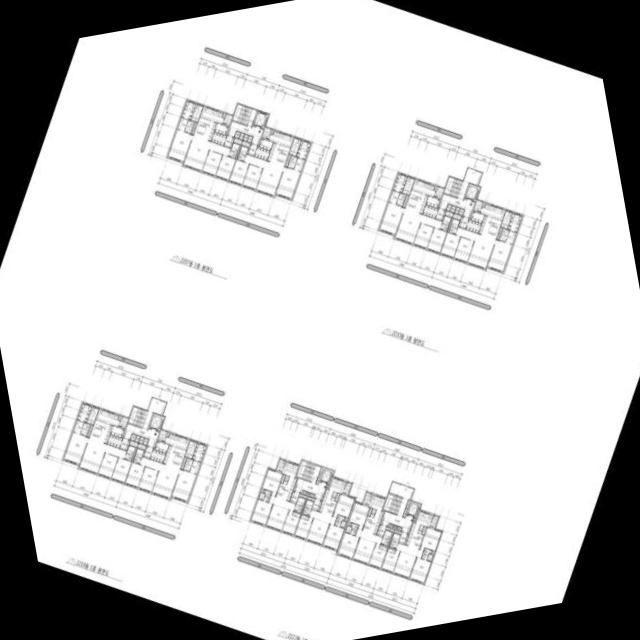background: (0, 0, 640, 640)
space_bedroom: (275, 166, 301, 199), (378, 202, 404, 234), (487, 239, 512, 272), (171, 469, 196, 502), (167, 129, 192, 162), (63, 432, 88, 464), (261, 468, 282, 496), (250, 499, 272, 525), (337, 532, 359, 558), (322, 524, 344, 550), (409, 557, 431, 583), (348, 502, 369, 529), (419, 527, 442, 551), (332, 494, 355, 517), (201, 150, 222, 175), (440, 232, 460, 258), (111, 457, 131, 483), (413, 223, 433, 248), (426, 228, 446, 253), (138, 467, 158, 492), (97, 453, 117, 478), (454, 237, 474, 262), (229, 160, 249, 185), (242, 164, 262, 189), (215, 155, 235, 180), (368, 543, 387, 568), (294, 514, 313, 539), (125, 462, 144, 487), (281, 510, 300, 535), (381, 548, 399, 572)
space_dressroom: (507, 212, 522, 232), (392, 173, 407, 192), (296, 140, 311, 159), (76, 403, 91, 422), (192, 442, 206, 462), (181, 100, 195, 120)
space_elevator: (149, 413, 164, 431), (464, 184, 479, 201), (253, 111, 268, 128), (406, 501, 420, 517), (319, 468, 333, 484)
space_elevator_hall: (123, 398, 166, 447), (438, 168, 481, 217), (381, 482, 414, 532), (294, 465, 326, 499), (227, 121, 263, 144)
space_front: (465, 219, 481, 233), (106, 434, 122, 448), (150, 449, 165, 463), (254, 146, 269, 160), (422, 205, 438, 218), (211, 132, 226, 145), (458, 216, 468, 228), (289, 491, 299, 503), (398, 532, 408, 544), (376, 524, 386, 536), (119, 438, 129, 450), (435, 208, 445, 220), (224, 136, 234, 148), (142, 446, 152, 458), (247, 144, 257, 155), (312, 499, 321, 511)
space_kitchen: (405, 510, 433, 550), (193, 106, 224, 141), (319, 477, 346, 516), (89, 408, 119, 443), (405, 179, 435, 213), (478, 203, 505, 240), (267, 130, 294, 167), (275, 461, 299, 501), (163, 433, 189, 469), (362, 494, 385, 534), (470, 211, 484, 223), (214, 123, 228, 135), (155, 441, 168, 453), (426, 196, 439, 208), (110, 426, 124, 437), (259, 139, 272, 150)
space_living_room: (394, 209, 442, 244), (78, 438, 126, 473), (455, 227, 495, 269), (182, 136, 230, 171), (139, 457, 179, 499), (244, 154, 283, 196), (306, 509, 336, 545), (352, 529, 382, 564), (266, 495, 295, 531), (393, 543, 422, 578)
space_other: (190, 103, 203, 122), (184, 440, 197, 458), (402, 176, 414, 195), (500, 210, 512, 229), (289, 137, 301, 156), (86, 406, 98, 425), (316, 467, 323, 483), (403, 501, 409, 516), (496, 227, 502, 239), (403, 195, 408, 207), (191, 122, 196, 134), (181, 457, 186, 469), (87, 425, 92, 436), (285, 155, 290, 166), (453, 214, 461, 220), (445, 211, 453, 217), (241, 141, 249, 147), (233, 138, 241, 144), (137, 443, 145, 449), (458, 208, 464, 215), (234, 131, 240, 138), (134, 435, 140, 442), (367, 508, 372, 516), (393, 529, 401, 534), (129, 441, 137, 446), (280, 474, 285, 482), (421, 526, 426, 534), (454, 207, 460, 213), (138, 437, 144, 443), (238, 133, 244, 139), (299, 493, 306, 498), (307, 496, 314, 501), (143, 438, 148, 445), (243, 134, 248, 141), (385, 527, 393, 531), (335, 493, 339, 501), (130, 434, 135, 440), (450, 206, 455, 212), (247, 136, 252, 142), (446, 204, 451, 210), (270, 129, 274, 134), (397, 526, 401, 530), (482, 202, 485, 207), (166, 432, 169, 437), (301, 490, 306, 493), (388, 524, 393, 527), (260, 488, 263, 492), (431, 551, 435, 554), (306, 492, 310, 495), (310, 493, 314, 496), (345, 517, 348, 521), (393, 525, 397, 528), (347, 522, 350, 525), (326, 485, 328, 487), (413, 518, 415, 520)
space_outdoor_room: (118, 416, 128, 428), (473, 200, 483, 212), (434, 186, 444, 198), (222, 114, 232, 125), (157, 430, 167, 441), (262, 127, 271, 139), (343, 482, 351, 495), (363, 492, 371, 505), (276, 459, 284, 472), (430, 515, 438, 528)
space_staircase: (232, 104, 256, 126), (296, 460, 316, 481), (443, 177, 463, 197), (383, 494, 402, 514), (128, 407, 147, 427)
space_toilet: (448, 218, 459, 234), (124, 445, 135, 461), (440, 215, 451, 231), (237, 145, 248, 161), (132, 448, 143, 464), (293, 157, 305, 171), (302, 500, 313, 515), (228, 143, 239, 158), (294, 497, 305, 512), (389, 533, 400, 548), (381, 530, 392, 545), (505, 230, 516, 244), (189, 460, 200, 474), (73, 420, 84, 434), (177, 117, 188, 131), (389, 190, 399, 204), (334, 515, 345, 526), (421, 548, 432, 559), (263, 489, 271, 502), (350, 523, 358, 535), (80, 428, 88, 436), (396, 198, 404, 206), (289, 155, 297, 163), (500, 228, 508, 236), (498, 234, 507, 241), (183, 464, 191, 471), (185, 458, 193, 465), (398, 193, 406, 200), (186, 120, 194, 127), (287, 161, 295, 168), (184, 126, 192, 133), (82, 423, 90, 430), (259, 492, 265, 500), (340, 520, 346, 528), (426, 553, 432, 561), (345, 526, 351, 533)
